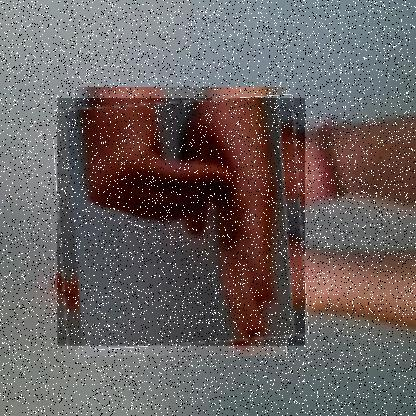Z: (56, 98, 305, 347)
